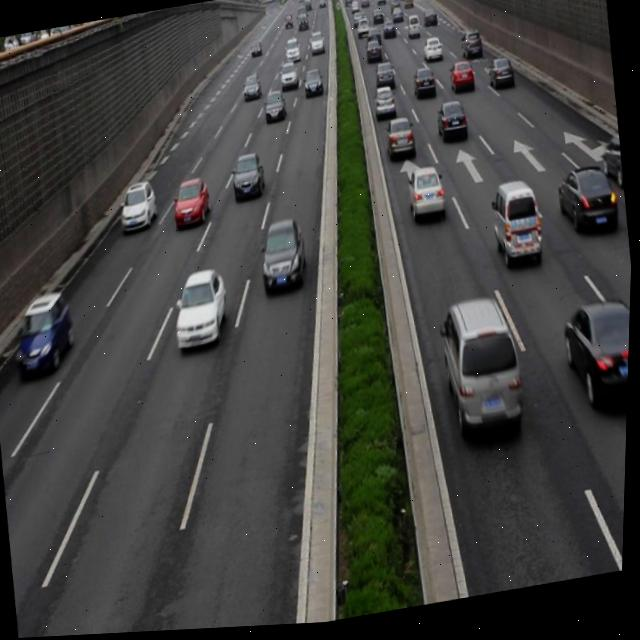car: (559, 299, 632, 419), (12, 288, 79, 380), (170, 266, 233, 354), (555, 167, 622, 244), (256, 219, 311, 297), (171, 175, 214, 230), (117, 179, 160, 234), (406, 168, 447, 225), (230, 151, 269, 205), (434, 101, 469, 150), (383, 116, 416, 165), (598, 139, 626, 195), (486, 59, 515, 96), (447, 63, 475, 100), (262, 90, 288, 128), (411, 68, 437, 104), (372, 87, 397, 123), (373, 62, 396, 95)
truck: (436, 296, 529, 438), (488, 182, 545, 270)
